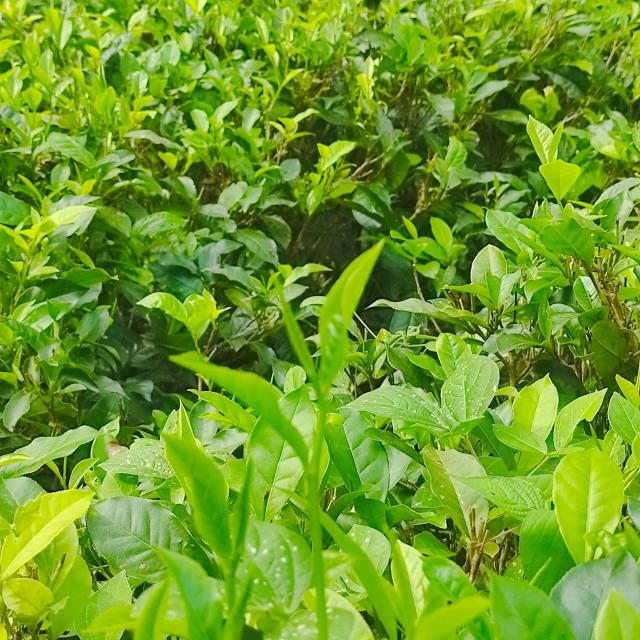unopened_leaf: (262, 262, 329, 391), (221, 450, 255, 590)
